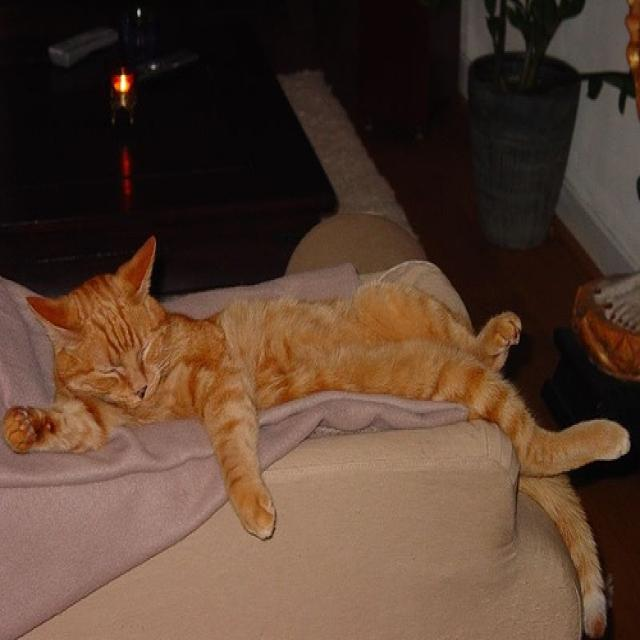cat: (4, 232, 630, 638)
pottedplant: (466, 0, 585, 253)
